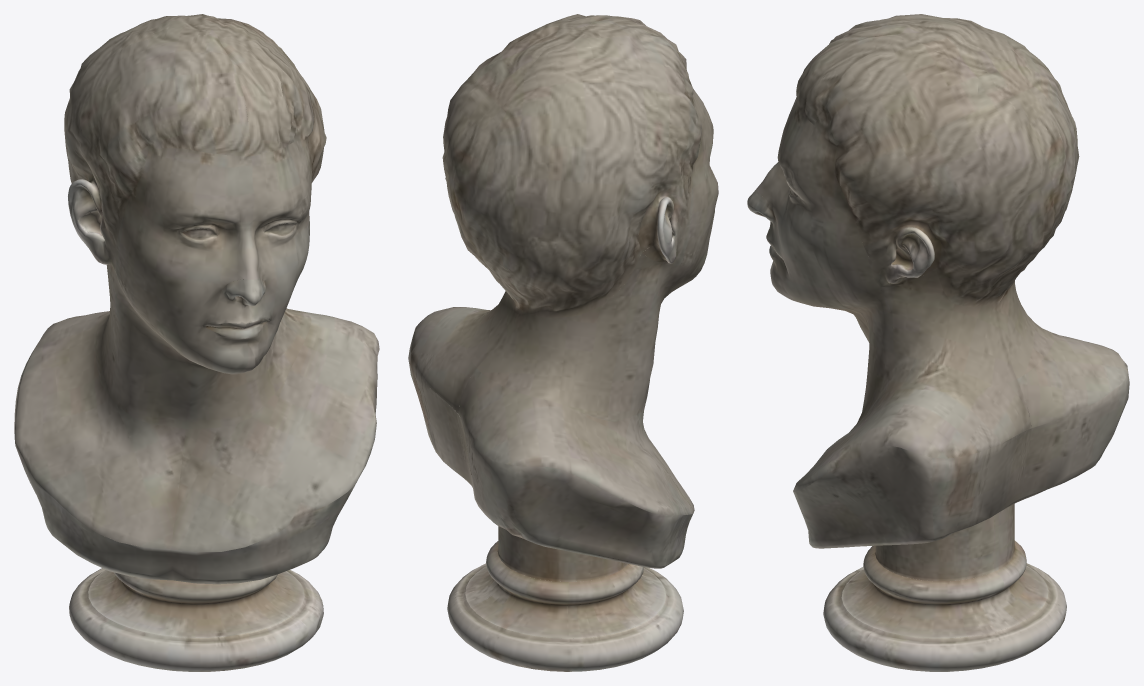
The model's file is ph_marble_bust_01.glb.
3 views of the same model, side by side, from view 1: azimuth 30°, elevation 25°; view 2: azimuth 150°, elevation 25°; view 3: azimuth 270°, elevation 25° (orthographic). The views are drawn at different scales.
Visible parts, largest first — view 1: marble_bust_01; view 2: marble_bust_01; view 3: marble_bust_01.
Part boxes in pixels (box(x1,y1,x2,y2)): marble_bust_01: box(14, 14, 379, 671); marble_bust_01: box(408, 14, 718, 671); marble_bust_01: box(747, 14, 1129, 671).
Size of the model in its own units: 0.2717 by 0.5149 by 0.2997.
1 material, 1 textured.
